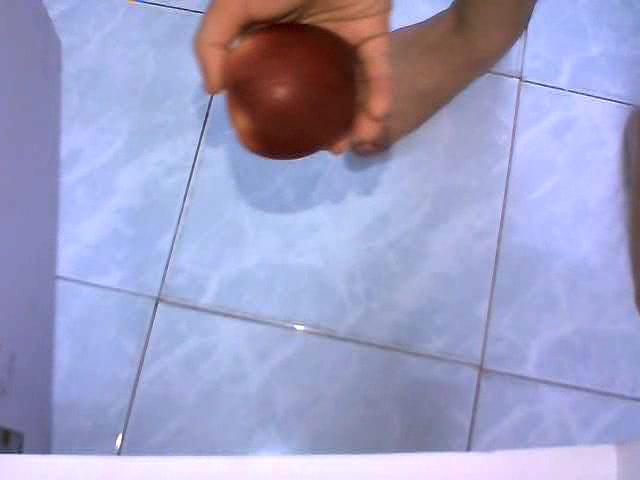apple: (224, 21, 358, 161)
